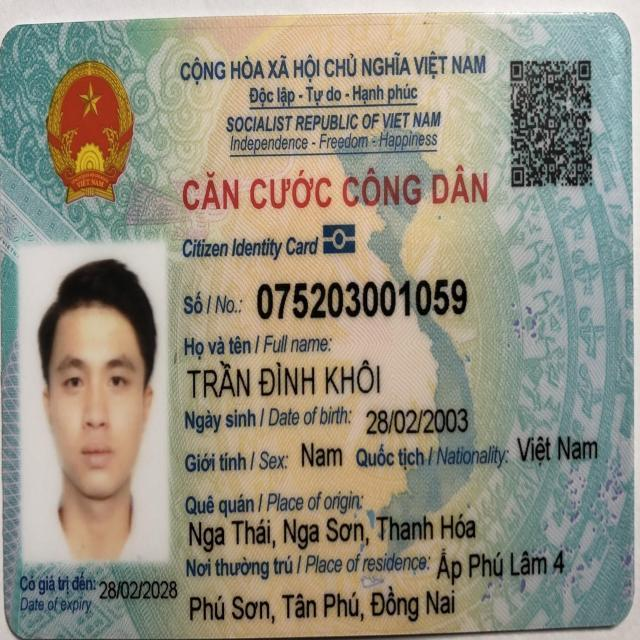current_place: (187, 583, 457, 623), (433, 545, 568, 586)
dob: (361, 406, 471, 437)
expire_date: (94, 575, 179, 601)
gender: (298, 438, 344, 471)
id: (251, 276, 471, 328)
name: (186, 357, 382, 400)
nationality: (515, 431, 601, 464)
origin_place: (185, 514, 479, 553)
